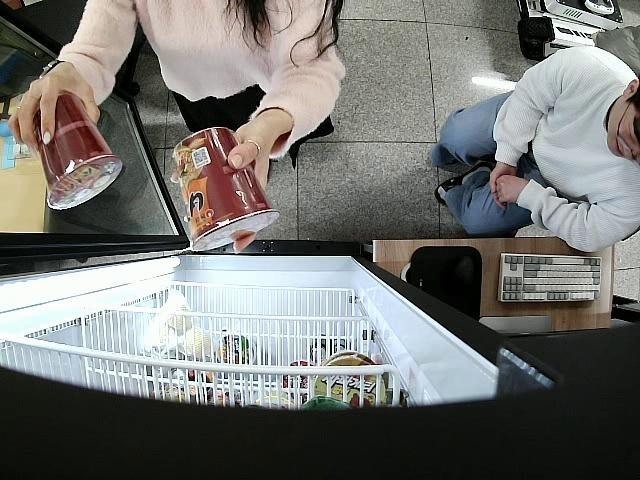06_nuguri_S: (172, 125, 278, 251), (30, 90, 124, 212)
